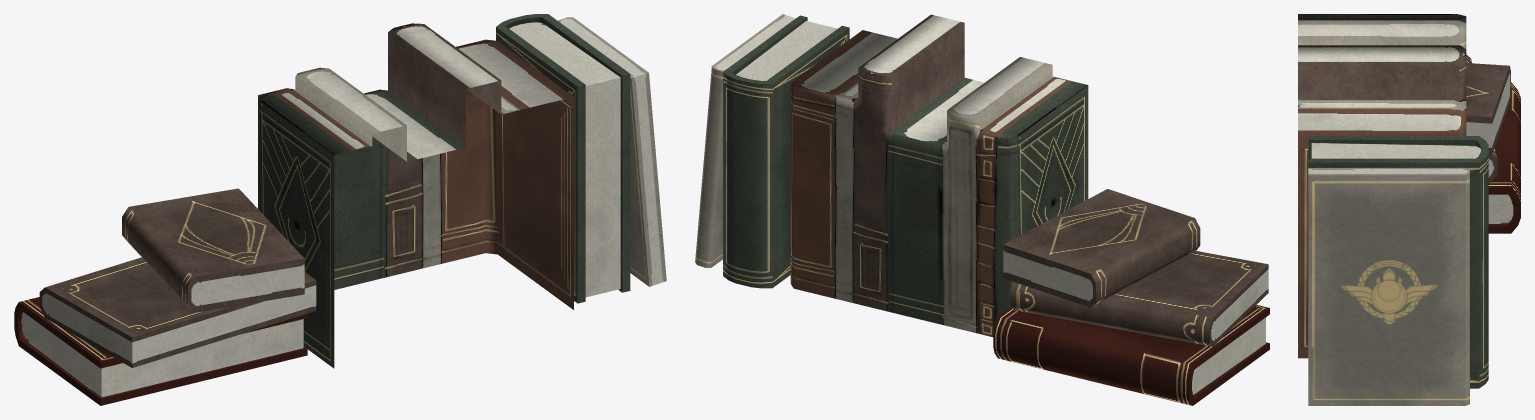
The model's file is BooksGroup03.fbx.
The picture shows the model from 3 angles, left to right: view 1: azimuth 30°, elevation 25°; view 2: azimuth 150°, elevation 25°; view 3: azimuth 270°, elevation 25°; orthographic projection. The views are drawn at different scales.
Parts seen in each view (by area): view 1: prop_books_02_inst_001; view 2: prop_books_02_inst_001; view 3: prop_books_02_inst_001.
Part boxes in pixels (bbox=[...]): prop_books_02_inst_001: bbox=[14, 14, 666, 405]; prop_books_02_inst_001: bbox=[695, 14, 1269, 405]; prop_books_02_inst_001: bbox=[1298, 14, 1520, 405].
Bounding box in the file's own units: 111 × 47.81 × 37.4.
1 material, 1 textured.
